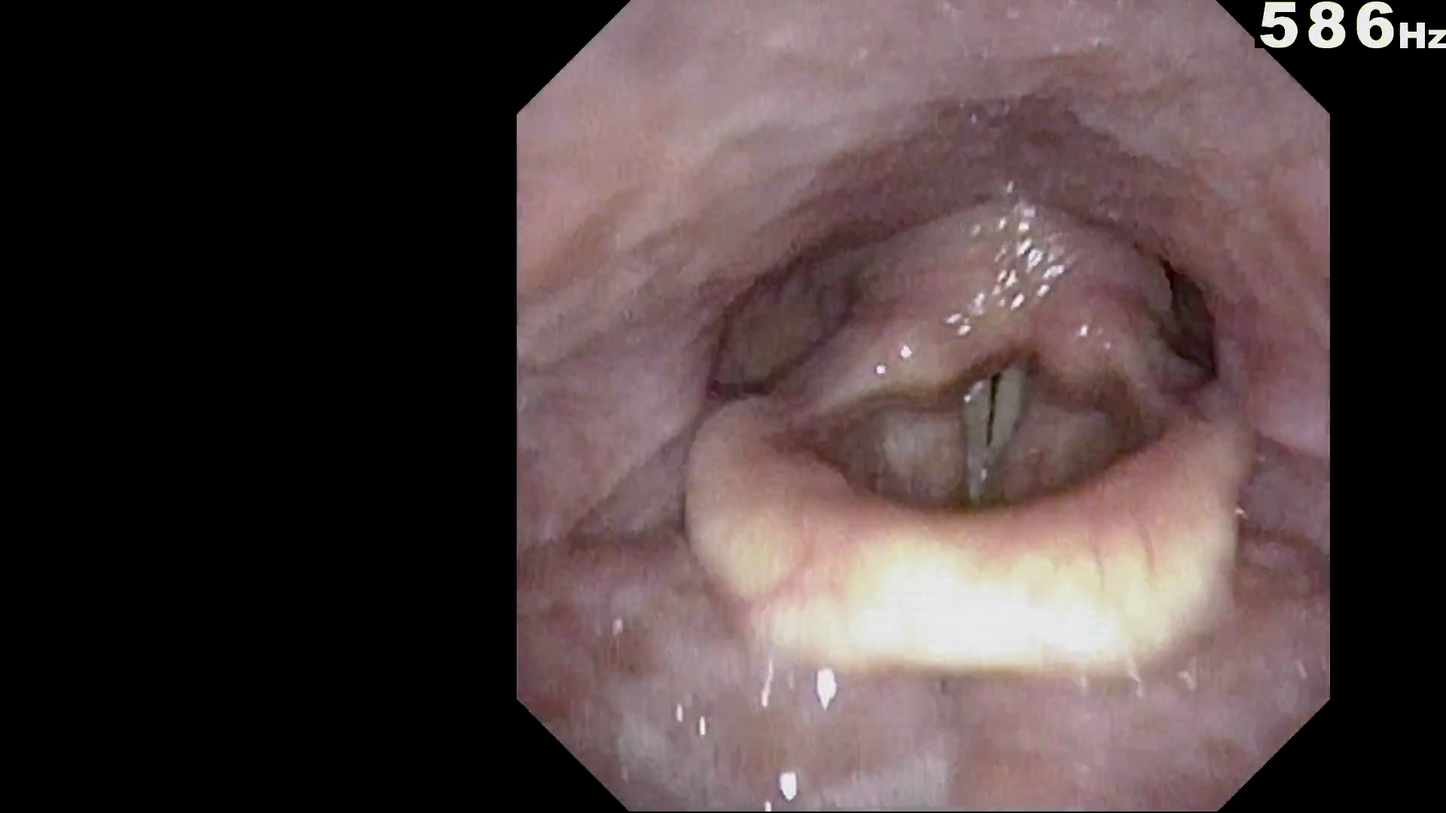epiglottis: (729, 386, 1214, 564)
